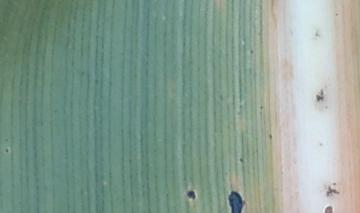tarspot: (227, 190, 246, 213), (323, 183, 340, 198), (314, 87, 326, 103), (185, 189, 196, 200), (323, 204, 334, 213), (313, 29, 321, 39), (217, 93, 225, 103), (238, 156, 245, 164), (317, 140, 324, 148), (333, 11, 340, 19), (258, 103, 264, 112), (267, 132, 273, 140), (248, 48, 254, 55), (331, 181, 337, 187), (4, 147, 9, 154)
